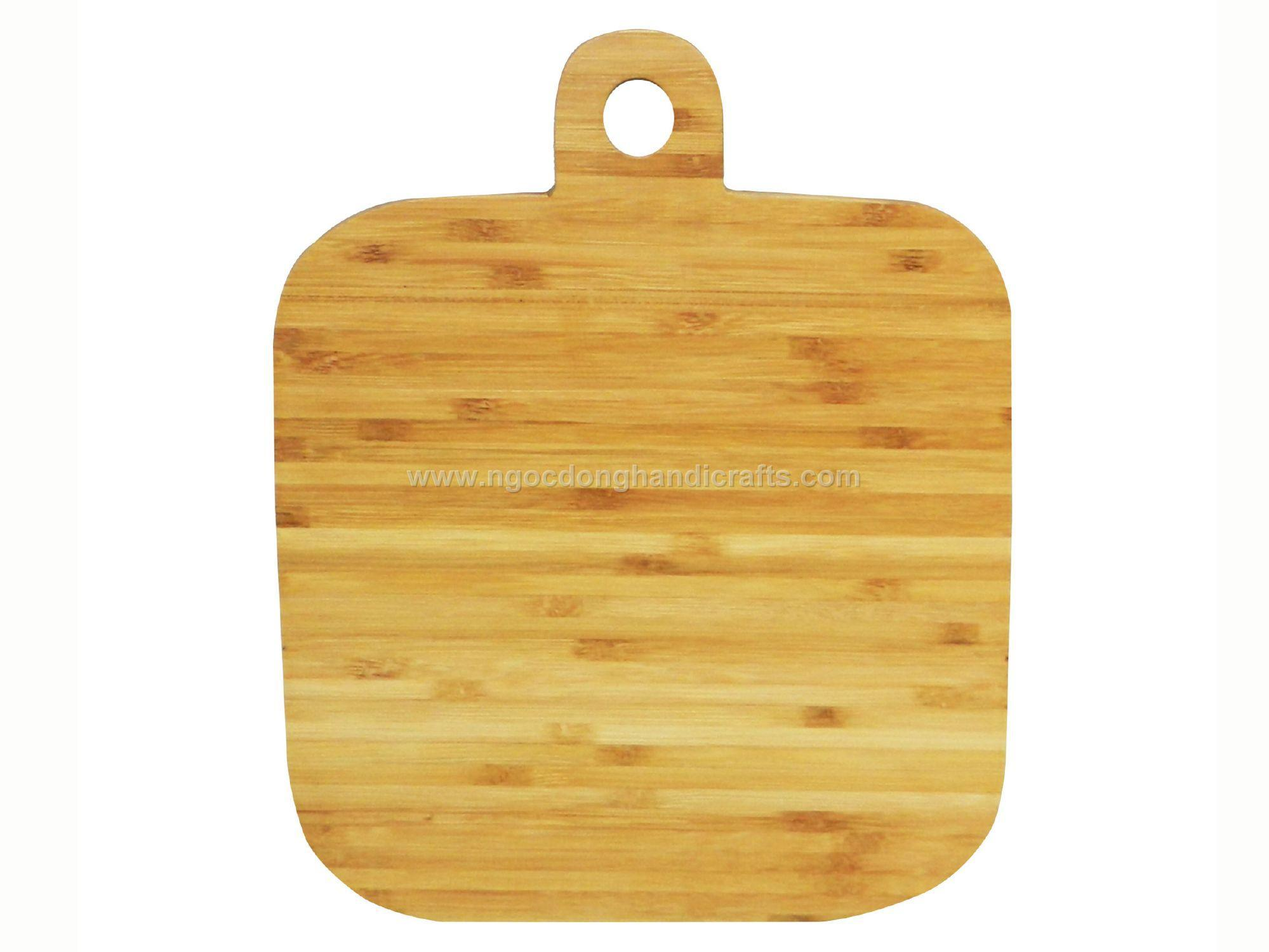gloved_hand: (250, 22, 1016, 929)
